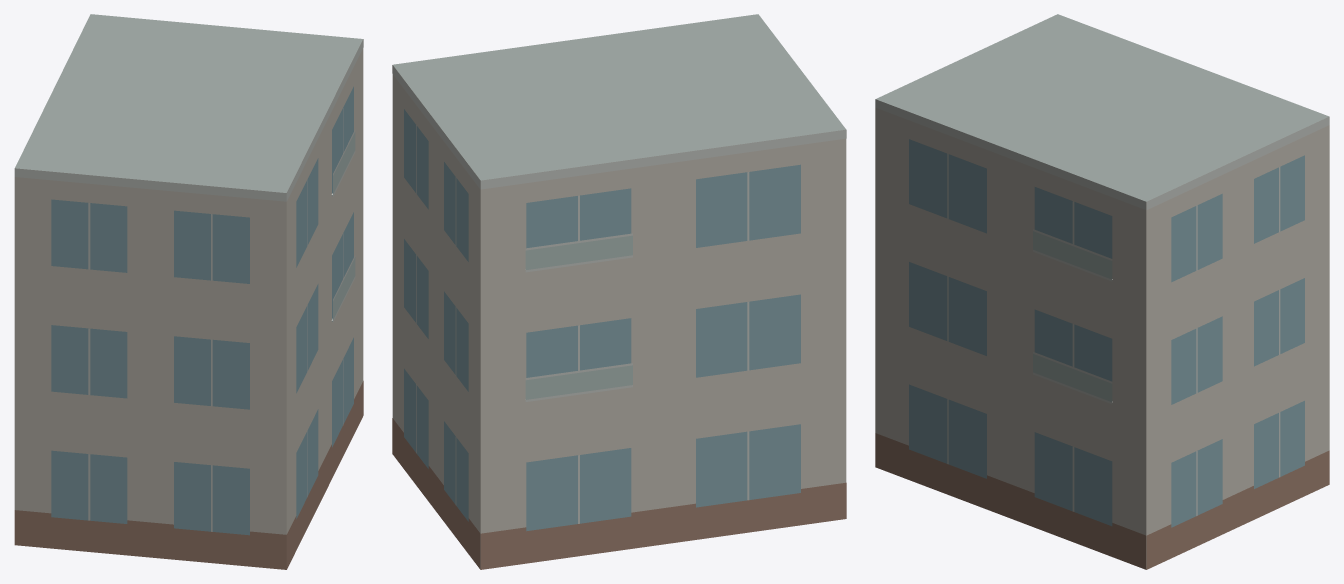
Rendered from survey-upis-32469341.glb.
3 renders of one model, left to right at view 1: azimuth 30°, elevation 25°; view 2: azimuth 150°, elevation 25°; view 3: azimuth 270°, elevation 25°, orthographic. The views are drawn at different scales.
Parts seen in each view (by area): view 1: survey-upis-32469341.tmp; view 2: survey-upis-32469341.tmp; view 3: survey-upis-32469341.tmp.
Part boxes in pixels (x1,y1,x2,y2): survey-upis-32469341.tmp: (14, 14, 363, 569); survey-upis-32469341.tmp: (392, 14, 846, 569); survey-upis-32469341.tmp: (875, 14, 1329, 569).
Bounding box in the file's own units: 11.61 × 10.6 × 11.86.
